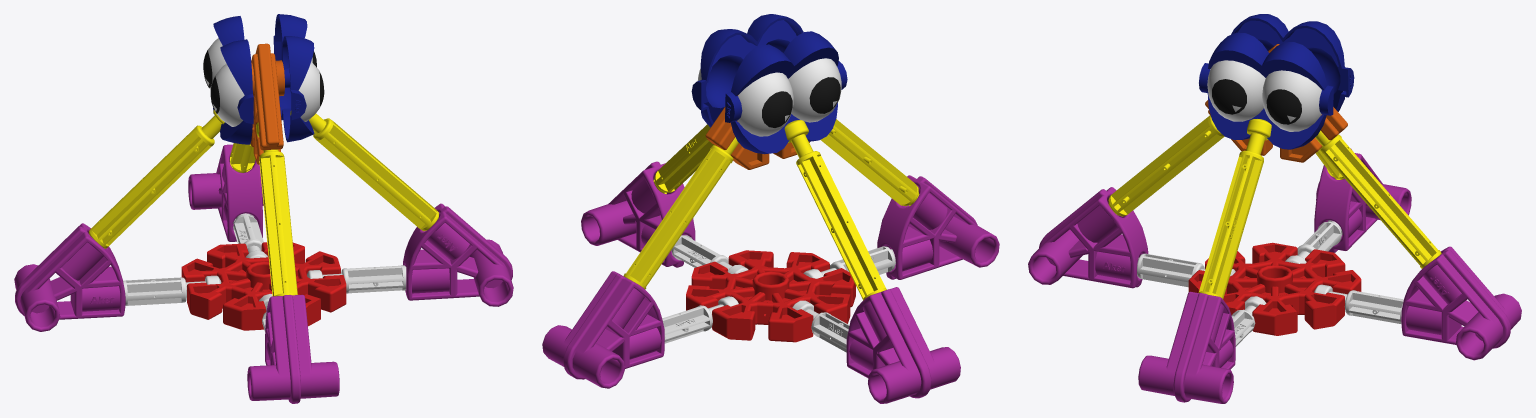
3 renders of one model, left to right at view 1: azimuth 30°, elevation 25°; view 2: azimuth 150°, elevation 25°; view 3: azimuth 270°, elevation 25°, orthographic. The views are drawn at different scales.
Visible parts, largest first — view 1: Untitled.5274, Untitled.5276, Untitled.5265, Untitled.5271, Untitled.5275, Untitled.5264, Untitled.5270, Untitled.5268, Untitled.5273, Untitled.5255, Untitled.5263, Untitled.5277 (+8 smaller); view 2: Untitled.5274, Untitled.5268, Untitled.5276, Untitled.5271, Untitled.5265, Untitled.5275, Untitled.5267, Untitled.5270, Untitled.5256, Untitled.5255, transform1.005, Untitled.5254 (+11 smaller); view 3: Untitled.5274, Untitled.5268, Untitled.5271, Untitled.5265, Untitled.5264, Untitled.5267, Untitled.5276, Untitled.5270, transform1.005, Untitled.5263, Untitled.5256, Untitled.5257 (+10 smaller).
Boxes of the visible parts, bbox=[...] form: Untitled.5274: bbox=[181, 242, 346, 330]; Untitled.5276: bbox=[14, 223, 125, 331]; Untitled.5265: bbox=[403, 203, 513, 306]; Untitled.5271: bbox=[247, 294, 339, 403]; Untitled.5275: bbox=[88, 109, 224, 248]; Untitled.5264: bbox=[290, 111, 439, 231]; Untitled.5270: bbox=[256, 122, 297, 296]; Untitled.5268: bbox=[188, 144, 263, 241]; Untitled.5273: bbox=[250, 43, 284, 164]; Untitled.5255: bbox=[213, 16, 253, 144]; Untitled.5263: bbox=[278, 14, 314, 141]; Untitled.5277: bbox=[123, 275, 221, 305]; Untitled.5274: bbox=[686, 250, 855, 342]; Untitled.5268: bbox=[542, 271, 664, 388]; Untitled.5276: bbox=[846, 287, 960, 403]; Untitled.5271: bbox=[877, 175, 999, 279]; Untitled.5265: bbox=[581, 161, 695, 267]; Untitled.5275: bbox=[784, 120, 886, 300]; Untitled.5267: bbox=[623, 137, 738, 289]; Untitled.5270: bbox=[820, 119, 919, 206]; Untitled.5256: bbox=[697, 19, 798, 122]; Untitled.5255: bbox=[731, 31, 836, 154]; transform1.005: bbox=[725, 61, 847, 153]; Untitled.5254: bbox=[737, 72, 793, 136]; Untitled.5274: bbox=[1188, 242, 1361, 335]; Untitled.5268: bbox=[1401, 246, 1521, 360]; Untitled.5271: bbox=[1028, 187, 1148, 288]; Untitled.5265: bbox=[1138, 291, 1235, 403]; Untitled.5264: bbox=[1198, 119, 1271, 298]; Untitled.5267: bbox=[1315, 130, 1441, 268]; Untitled.5276: bbox=[1314, 148, 1411, 252]; Untitled.5270: bbox=[1108, 115, 1224, 216]; transform1.005: bbox=[1236, 20, 1354, 108]; Untitled.5263: bbox=[1210, 32, 1333, 149]; Untitled.5256: bbox=[1199, 63, 1333, 148]; Untitled.5257: bbox=[1262, 70, 1321, 131].
Bounding box in the file's own units: 1.91 × 1.2 × 1.91.
